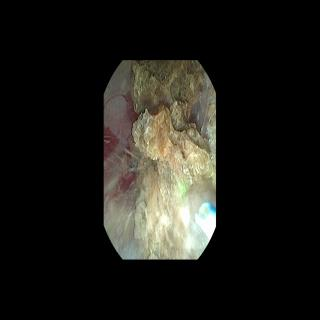fiber: (195, 203, 215, 237)
stone: (132, 63, 214, 257)
